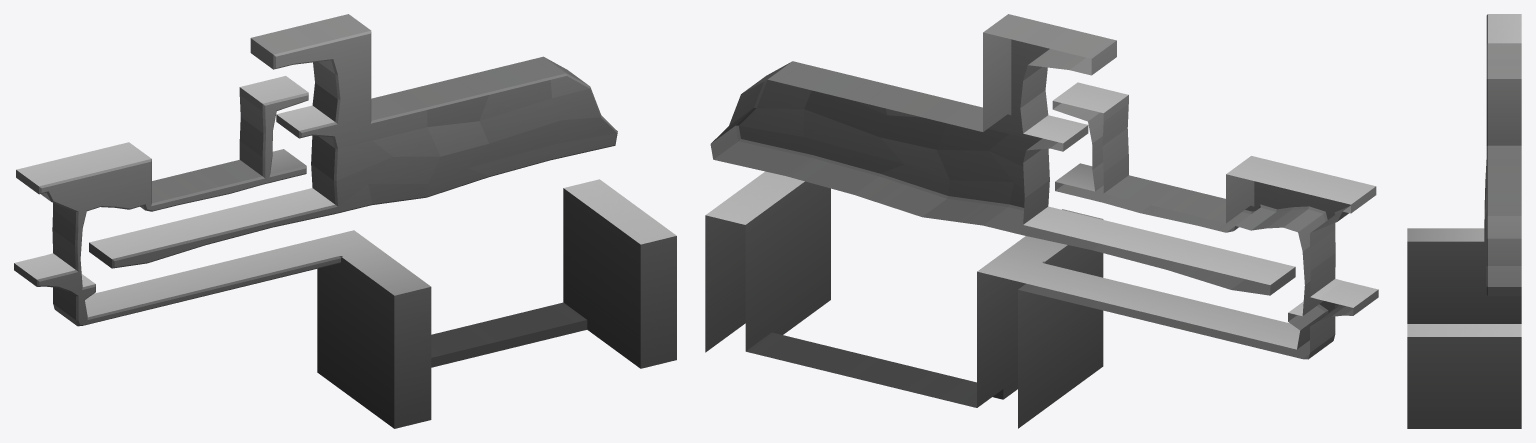
Rendered from Waterfall Cave Area.fbx.
The picture shows the model from 3 angles, left to right: view 1: azimuth 30°, elevation 25°; view 2: azimuth 150°, elevation 25°; view 3: azimuth 270°, elevation 25°; orthographic projection. The views are drawn at different scales.
Visible parts, largest first — view 1: polySurface114, polySurface105; view 2: polySurface114, polySurface105; view 3: polySurface114, polySurface105.
Part boxes in pixels (x1,y1,x2,y2): polySurface114: (14, 76, 676, 428); polySurface105: (89, 14, 617, 268); polySurface114: (705, 82, 1378, 428); polySurface105: (710, 14, 1295, 295); polySurface114: (1407, 14, 1521, 428); polySurface105: (1484, 43, 1521, 295).
Bounding box in the file's own units: 142 × 81.43 × 32.52.
Materials: 1 (1 with a texture image).
